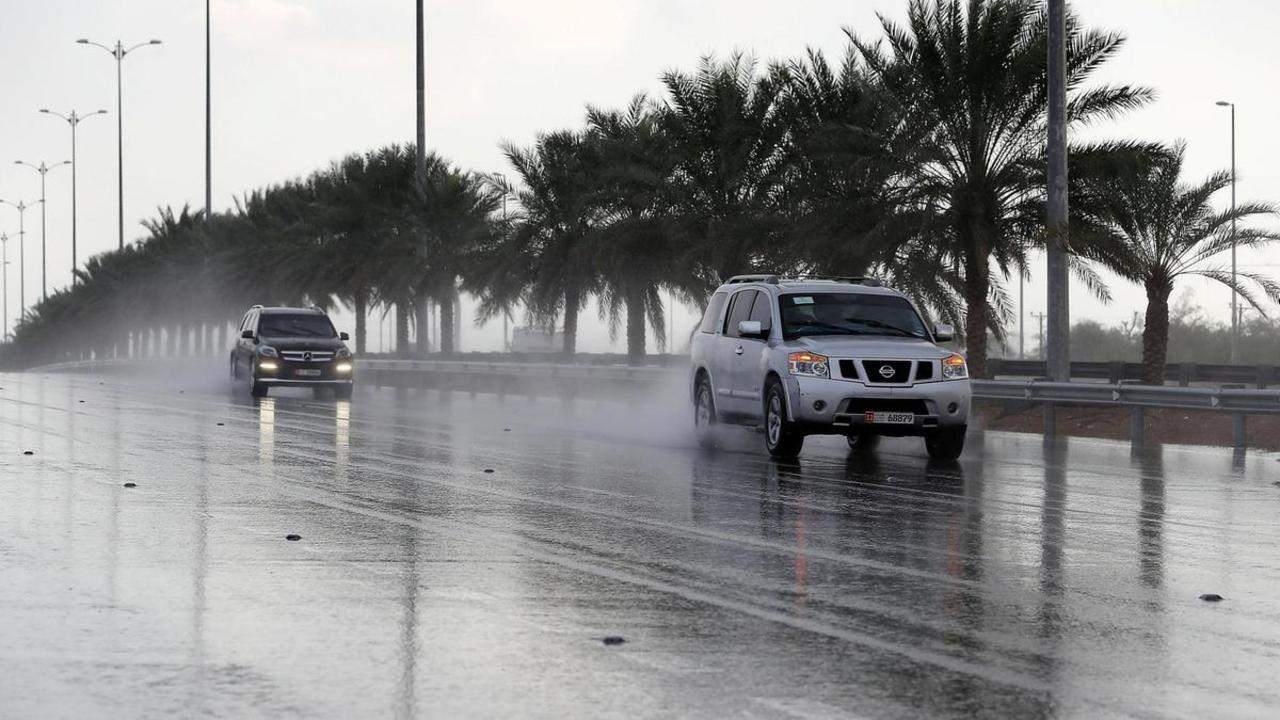car: (682, 267, 972, 470), (235, 307, 350, 391)
